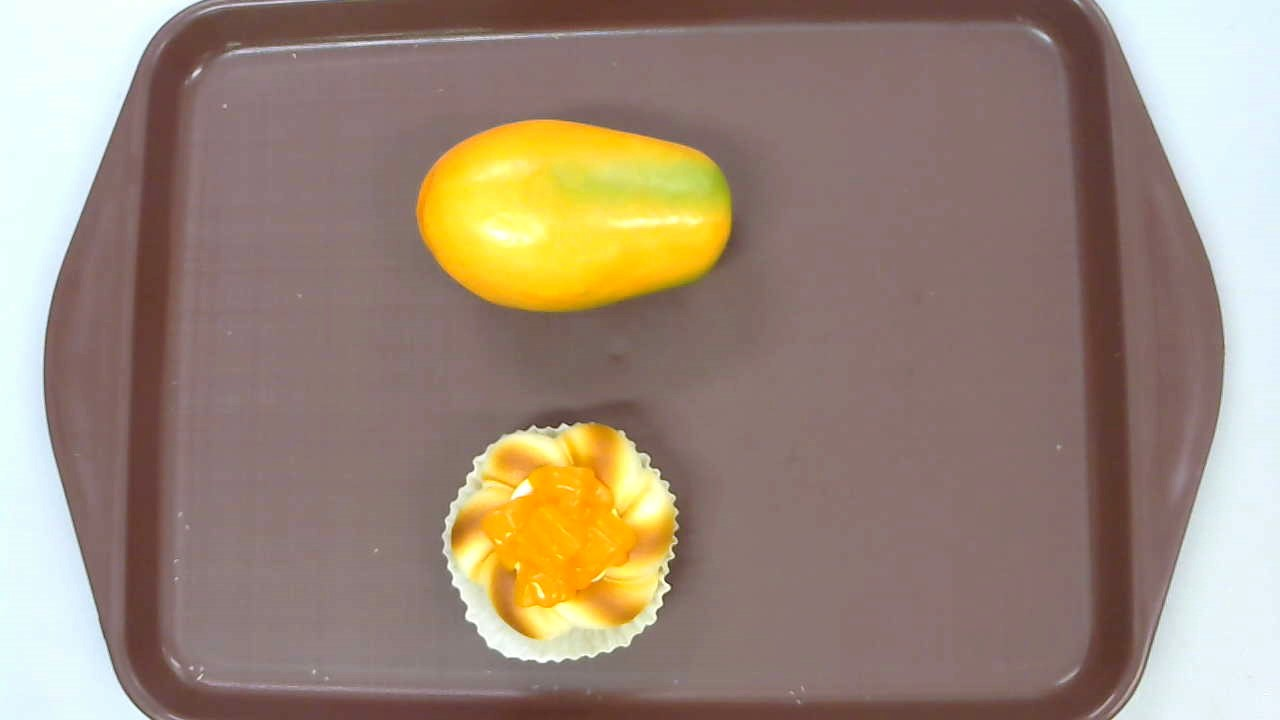mango tart: (440, 422, 679, 663)
papya: (415, 120, 733, 313)
